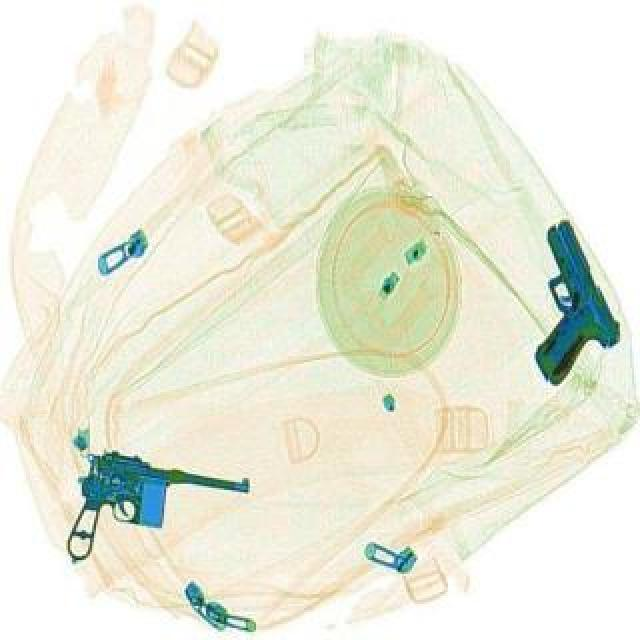gun: (60, 444, 252, 584), (484, 216, 632, 388)
